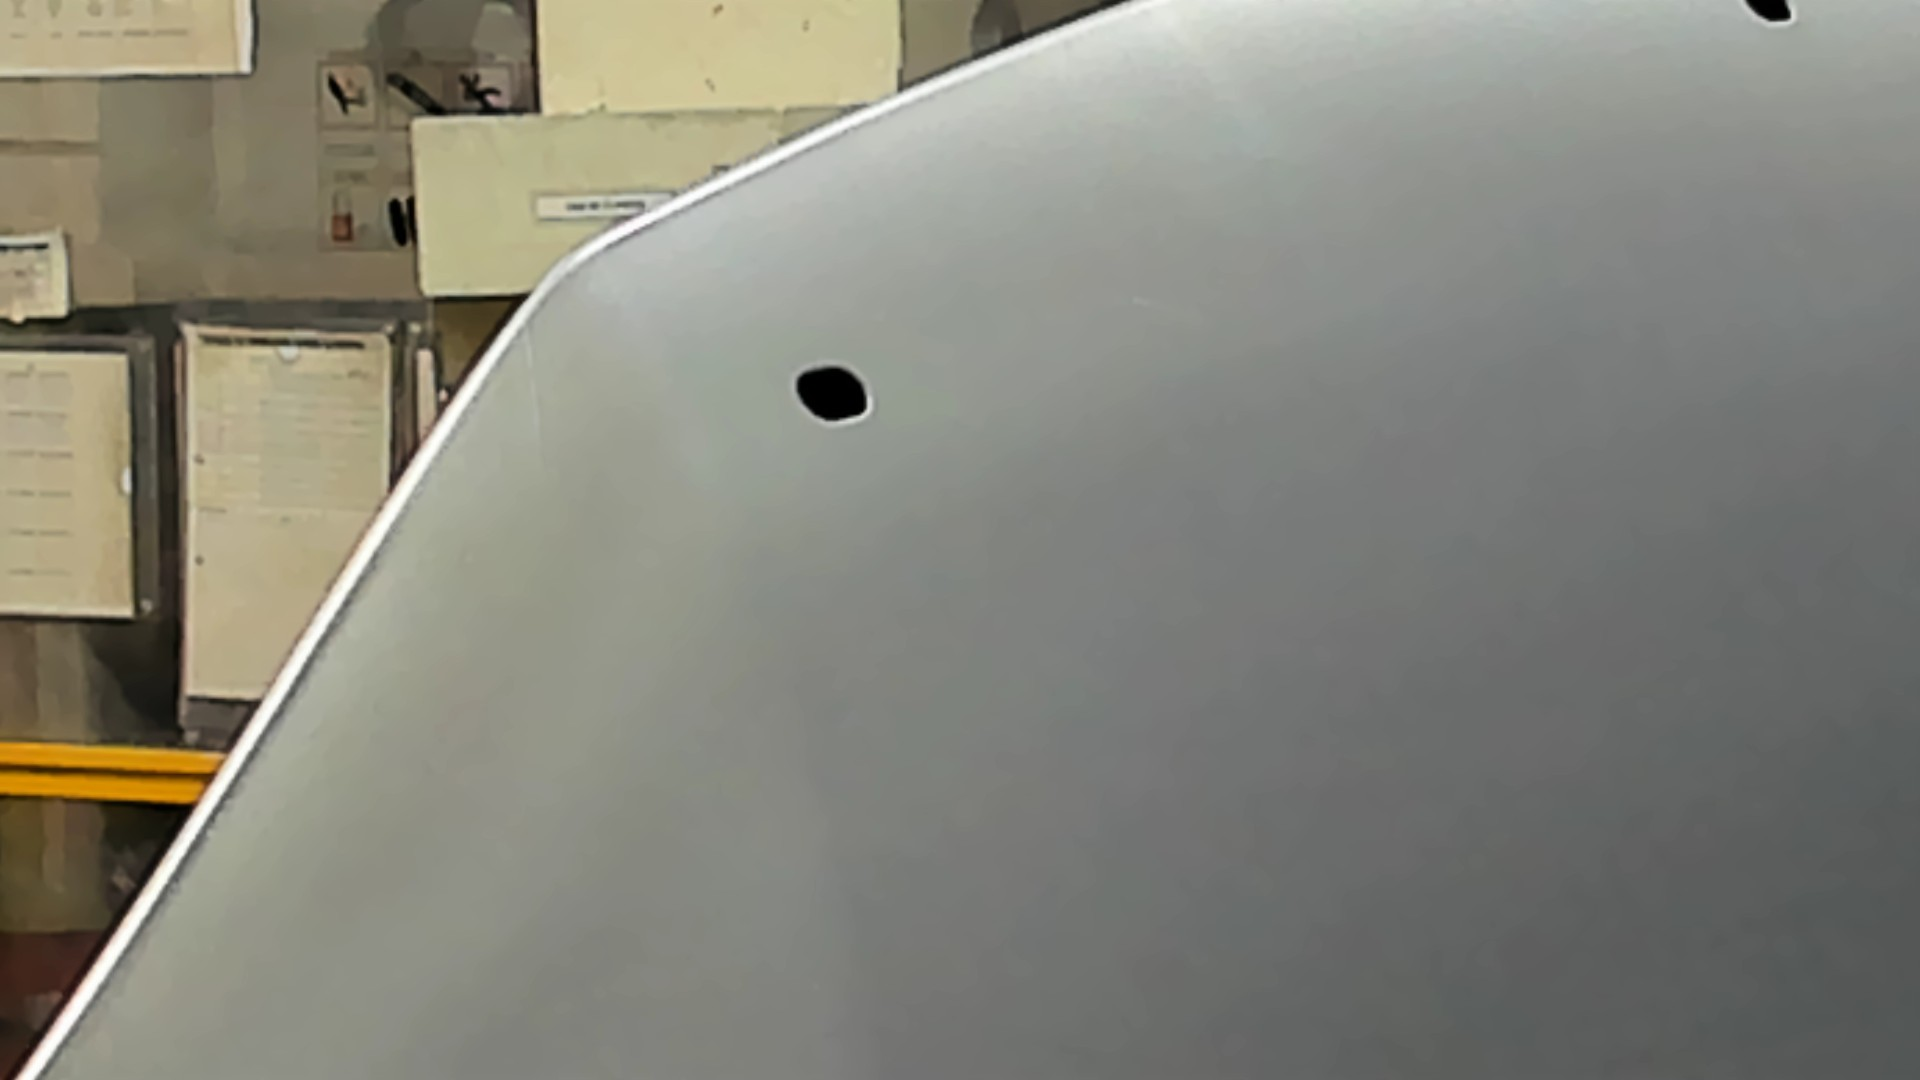amorfo: (789, 357, 874, 427), (1733, 1, 1803, 29)
